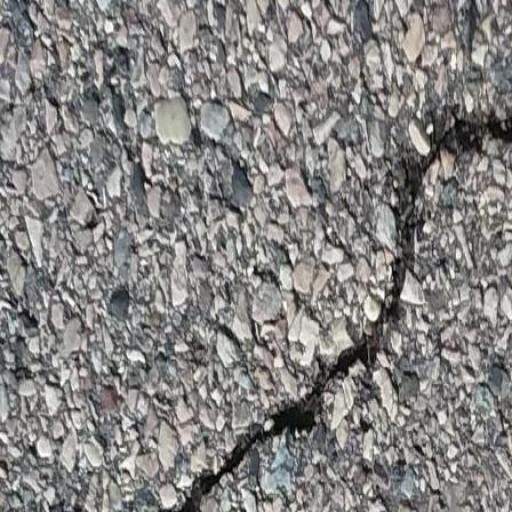spalling: (171, 101, 510, 512)
